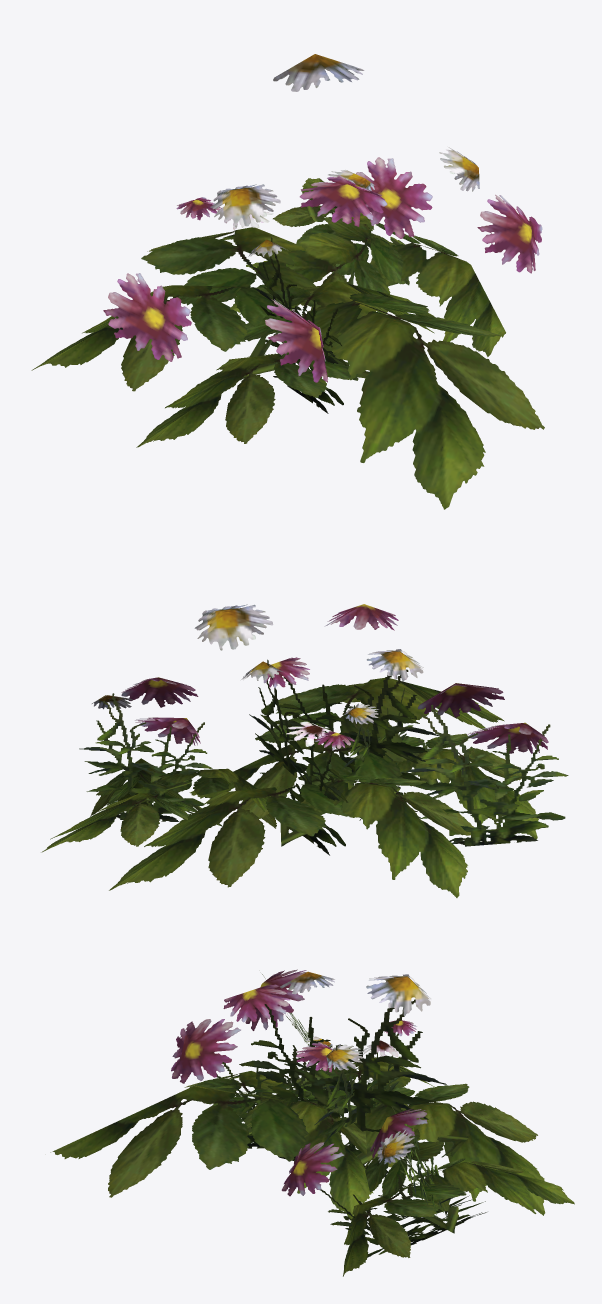
File: environment_grass_huaduo_001_a.FBX
The picture shows the model from 3 angles, top to bottom: view 1: azimuth 30°, elevation 25°; view 2: azimuth 150°, elevation 25°; view 3: azimuth 270°, elevation 25°; orthographic projection. The views are drawn at different scales.
Parts seen in each view (by area): view 1: environment_grass_huaduo_001_a; view 2: environment_grass_huaduo_001_a; view 3: environment_grass_huaduo_001_a.
Part boxes in pixels (box(x1,y1,x2,y2)): environment_grass_huaduo_001_a: box(31, 54, 544, 509); environment_grass_huaduo_001_a: box(41, 604, 568, 897); environment_grass_huaduo_001_a: box(50, 969, 574, 1276).
Size of the model in its own units: 1.61 by 0.9466 by 1.81.
1 material, 1 textured.
